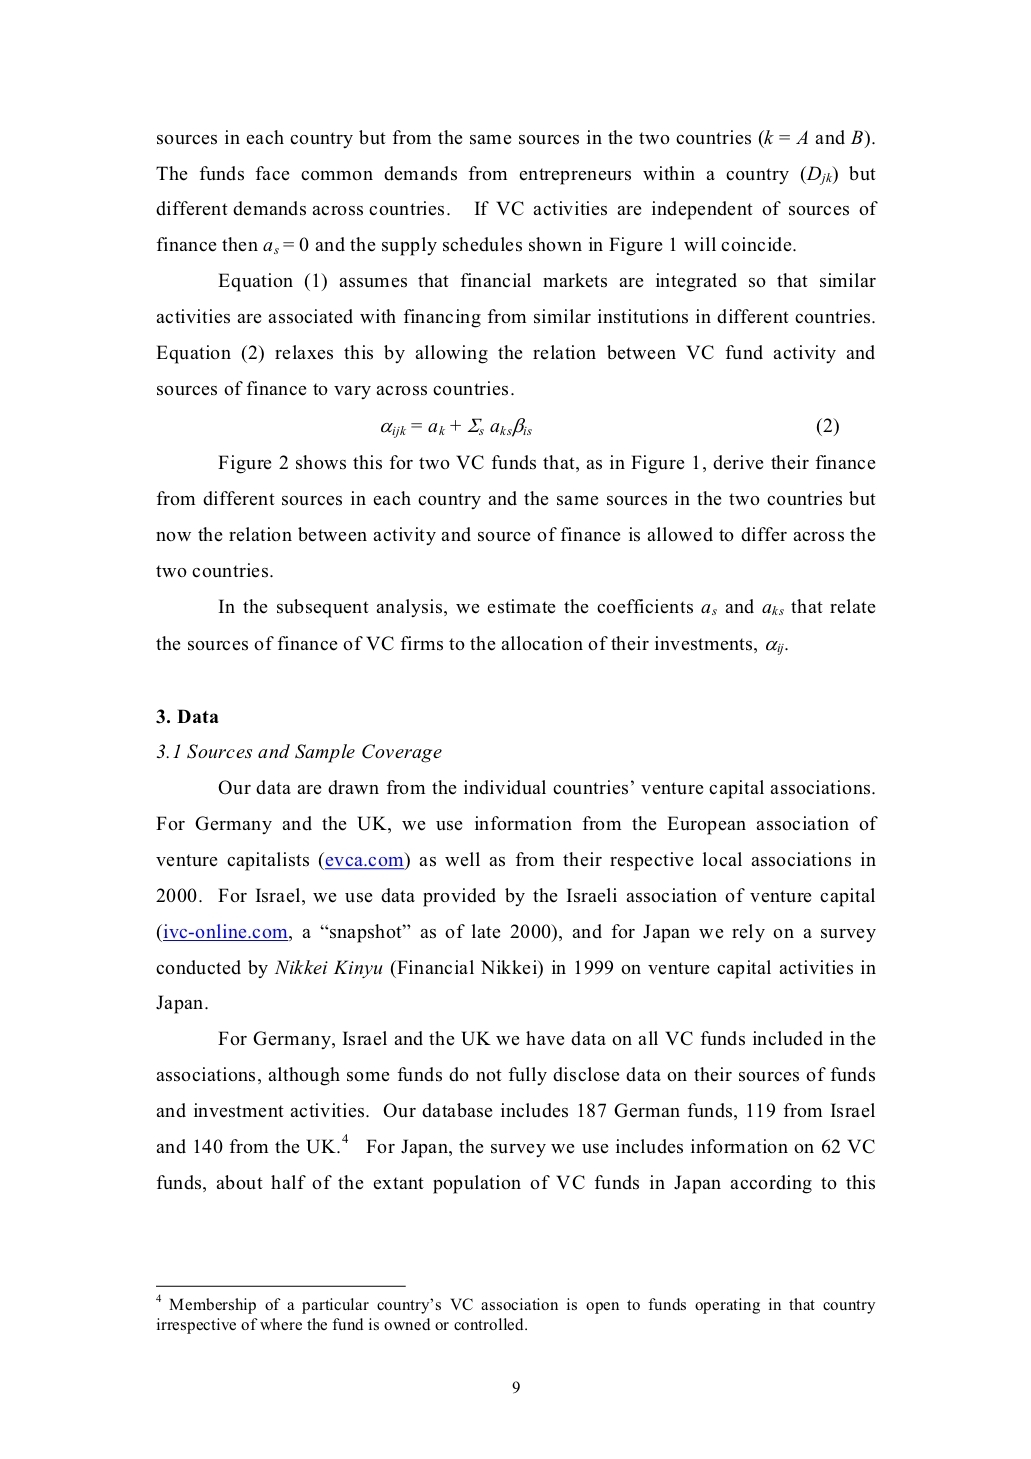formula: (380, 417, 838, 438)
